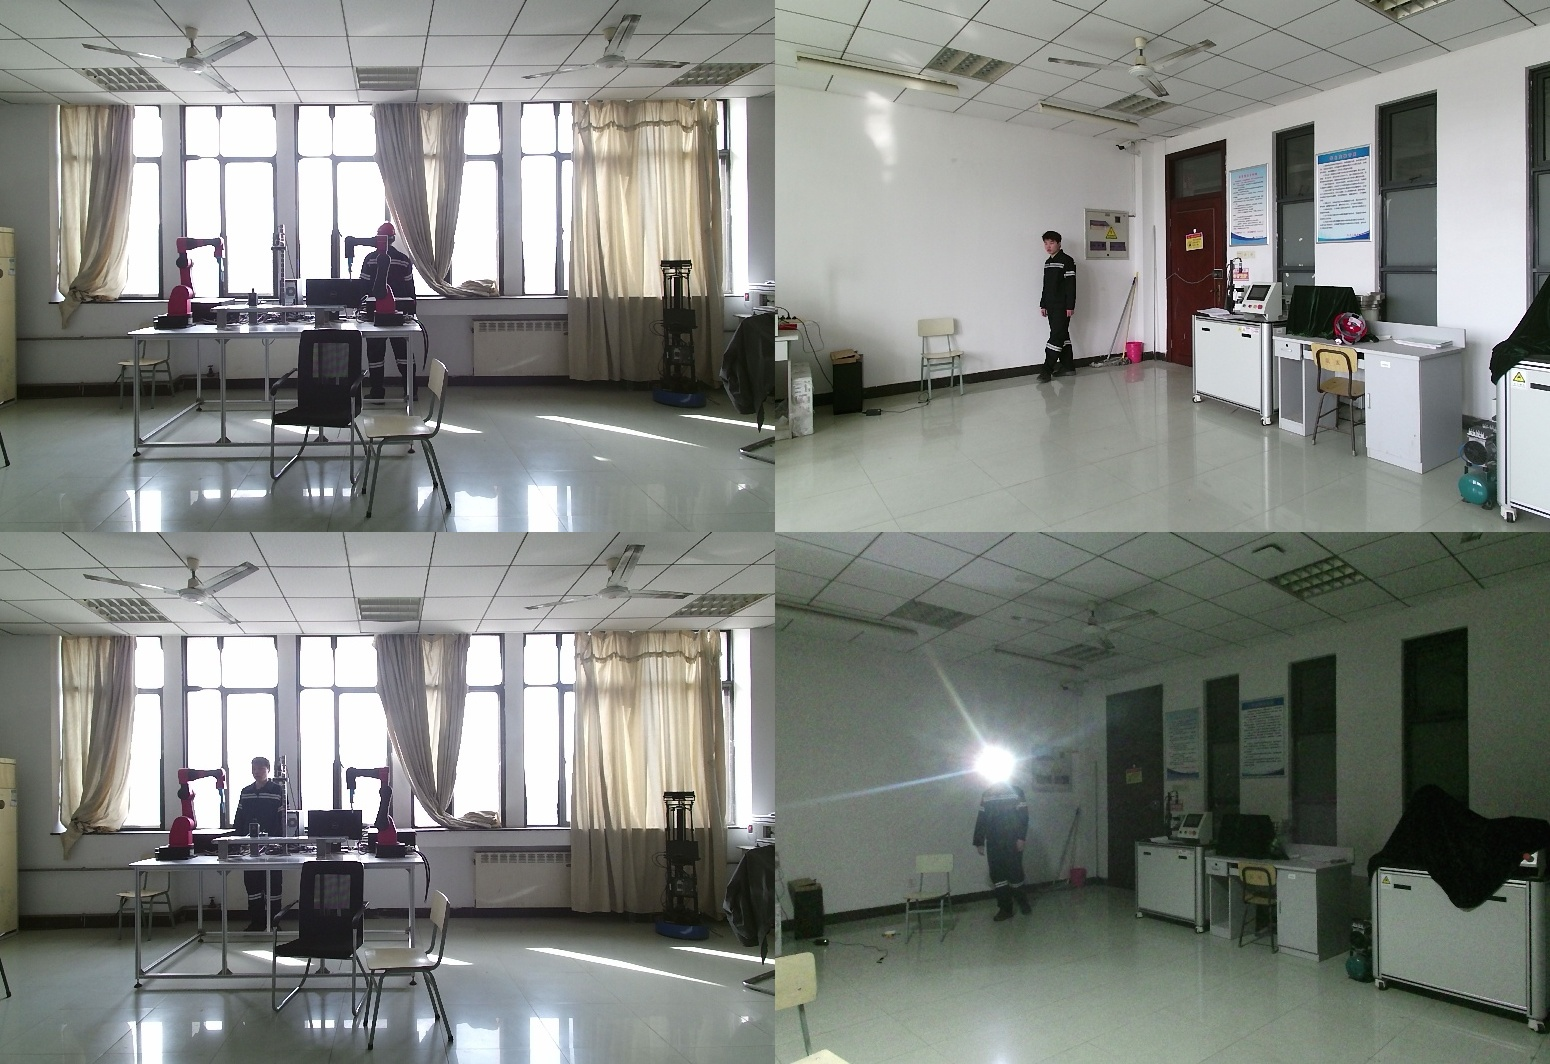person: (353, 224, 417, 414), (972, 761, 1034, 930), (233, 758, 288, 941), (1039, 229, 1080, 385)
